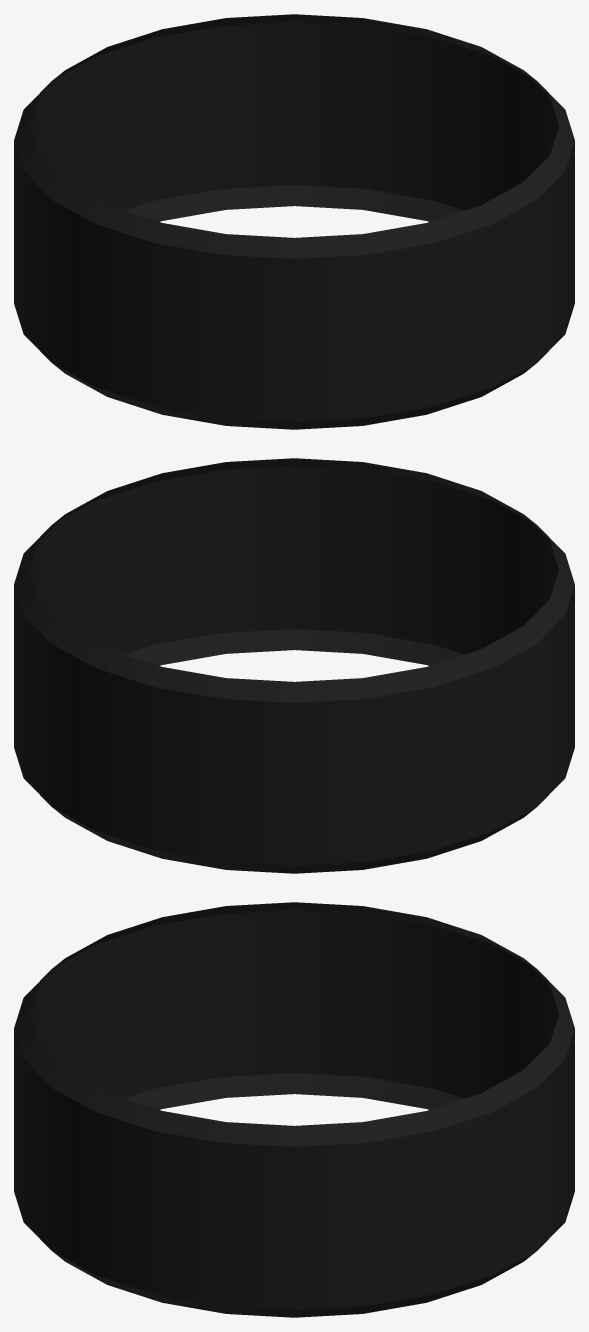
The model's file is virgo_radiator_fuel_tank_s1_1.obj.
3 views of the same model, one above another, from view 1: azimuth 30°, elevation 25°; view 2: azimuth 150°, elevation 25°; view 3: azimuth 270°, elevation 25° (orthographic).
Visible parts, largest first — view 1: mesh; view 2: mesh; view 3: mesh.
Boxes of the visible parts, <box> form: mesh: <box>14,14,574,429</box>; mesh: <box>14,458,574,873</box>; mesh: <box>14,902,574,1317</box>.
Size of the model in its own units: 1.33 by 0.5 by 1.33.
